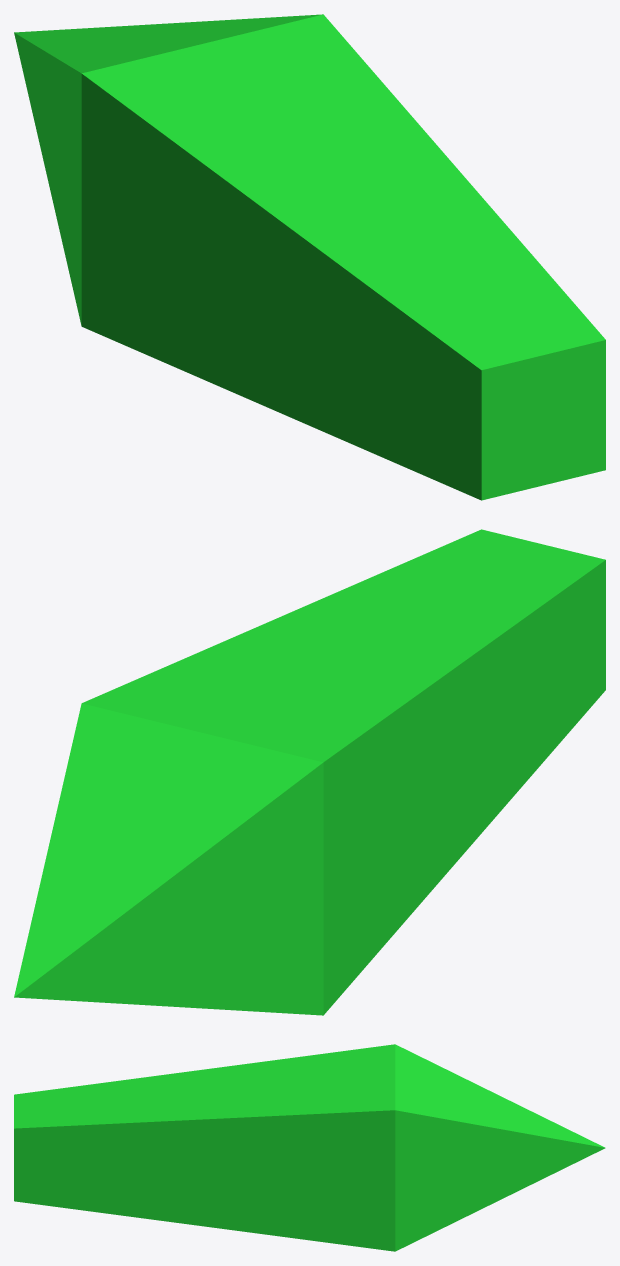
File: arrow.gltf
3 renders of one model, top to bottom at view 1: azimuth 30°, elevation 25°; view 2: azimuth 150°, elevation 25°; view 3: azimuth 270°, elevation 25°, orthographic. The views are drawn at different scales.
Parts seen in each view (by area): view 1: Arrow; view 2: Arrow; view 3: Arrow.
Part boxes in pixels (x1,y1,x2,y2): Arrow: (14,14,605,500); Arrow: (14,529,605,1015); Arrow: (14,1044,605,1251).
Bounding box in the file's own units: 0.0972 × 0.0972 × 0.3685.
